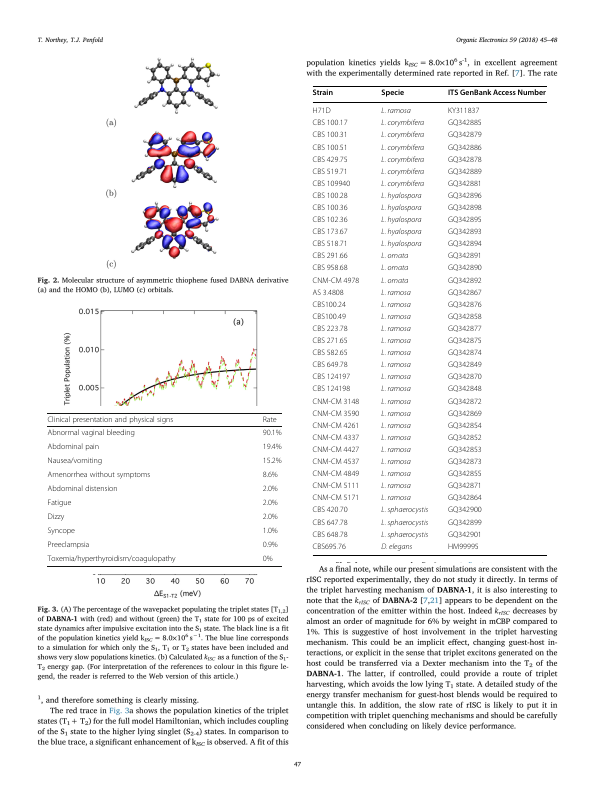borderless: (311, 84, 547, 555), (46, 411, 282, 566)
cell: (46, 554, 176, 564), (47, 415, 174, 424), (47, 470, 151, 480), (447, 88, 547, 98), (47, 428, 136, 438), (47, 484, 119, 494), (47, 456, 103, 466), (47, 442, 100, 452), (380, 505, 429, 515), (380, 118, 425, 128), (380, 130, 425, 140), (380, 518, 429, 527), (380, 530, 429, 539), (312, 457, 360, 466), (312, 469, 360, 478), (312, 481, 360, 490), (47, 540, 90, 550), (380, 203, 422, 213), (380, 215, 422, 225), (380, 227, 422, 237), (380, 239, 422, 249), (380, 143, 425, 152), (380, 155, 425, 164), (380, 167, 425, 176), (380, 179, 425, 188), (312, 276, 360, 284), (312, 397, 360, 405), (312, 409, 360, 417), (312, 421, 360, 429), (312, 433, 360, 441), (312, 445, 360, 453), (312, 494, 360, 502), (380, 191, 422, 200), (312, 203, 348, 212), (447, 203, 483, 212), (312, 215, 348, 224), (447, 215, 483, 224), (312, 227, 348, 236), (447, 227, 483, 236), (312, 336, 348, 345), (447, 336, 483, 345), (312, 348, 348, 357), (447, 348, 483, 357), (312, 360, 348, 369), (447, 360, 483, 369), (447, 457, 483, 466), (447, 469, 483, 478), (447, 481, 483, 490), (380, 106, 412, 116), (380, 324, 412, 334), (380, 336, 412, 346), (380, 348, 412, 358), (380, 360, 412, 370), (380, 372, 412, 382), (380, 384, 412, 394), (380, 445, 412, 455), (380, 457, 412, 467), (380, 469, 412, 479), (380, 481, 412, 491), (380, 493, 412, 503), (312, 179, 351, 187), (312, 373, 351, 381), (312, 385, 351, 393), (447, 106, 480, 115), (380, 542, 413, 551), (311, 119, 348, 127), (311, 131, 348, 139), (311, 143, 348, 151), (47, 526, 76, 536), (380, 251, 409, 261), (447, 119, 483, 127), (447, 131, 483, 139), (447, 143, 483, 151), (312, 155, 348, 163), (447, 155, 483, 163), (312, 167, 348, 175), (447, 167, 483, 175), (447, 179, 483, 187), (312, 191, 348, 199), (447, 191, 483, 199), (312, 240, 348, 248), (447, 240, 483, 248), (312, 252, 348, 260), (447, 252, 483, 260), (312, 264, 348, 272), (447, 264, 483, 272), (447, 276, 483, 284), (380, 288, 412, 297), (447, 288, 483, 296), (380, 300, 412, 309), (447, 300, 483, 308), (380, 312, 412, 321), (447, 312, 483, 320), (312, 324, 348, 332), (447, 324, 483, 332), (447, 373, 483, 381), (447, 385, 483, 393), (380, 397, 412, 406), (447, 397, 483, 405), (380, 409, 412, 418), (447, 409, 483, 417), (380, 421, 412, 430), (447, 421, 483, 429), (380, 433, 412, 442), (447, 433, 483, 441), (447, 445, 483, 453), (447, 494, 483, 502), (312, 506, 348, 514), (447, 506, 483, 514), (312, 518, 348, 526), (447, 518, 483, 526), (312, 530, 348, 538), (447, 530, 483, 538), (312, 300, 347, 308), (312, 312, 347, 320), (312, 542, 347, 550), (312, 288, 345, 296), (447, 542, 480, 550), (380, 264, 409, 273), (380, 276, 409, 285), (47, 498, 72, 508), (380, 88, 405, 98), (311, 88, 334, 98), (262, 428, 282, 438), (262, 442, 282, 452), (262, 456, 282, 466), (311, 106, 332, 115), (47, 512, 65, 522), (262, 470, 279, 480), (262, 484, 279, 494), (262, 498, 279, 508), (262, 512, 279, 522), (262, 526, 279, 536), (262, 540, 279, 550), (262, 415, 278, 424), (262, 554, 273, 564)
